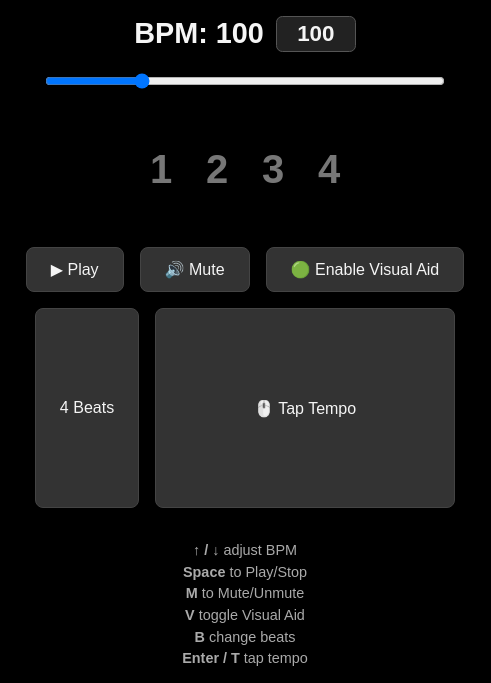
Test: App › toggles mute state when mute button is clicked
Click the button "🔊 Mute".
click(195, 270)  # box [140,247,250,292]
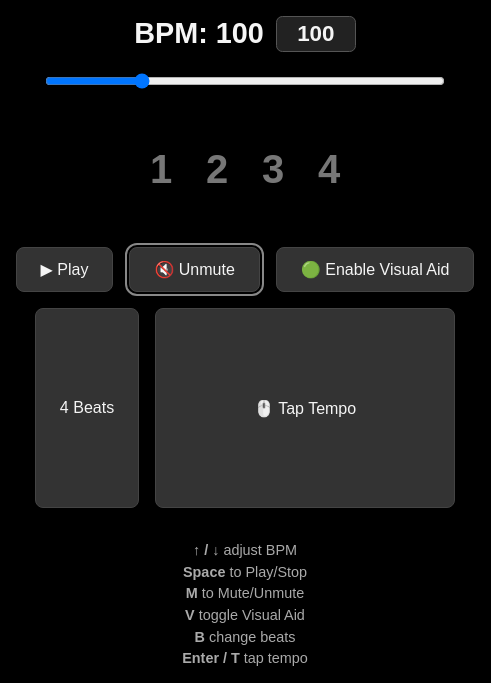
Result: the button "🔇 Unmute" is shown at [129,247,260,292]
